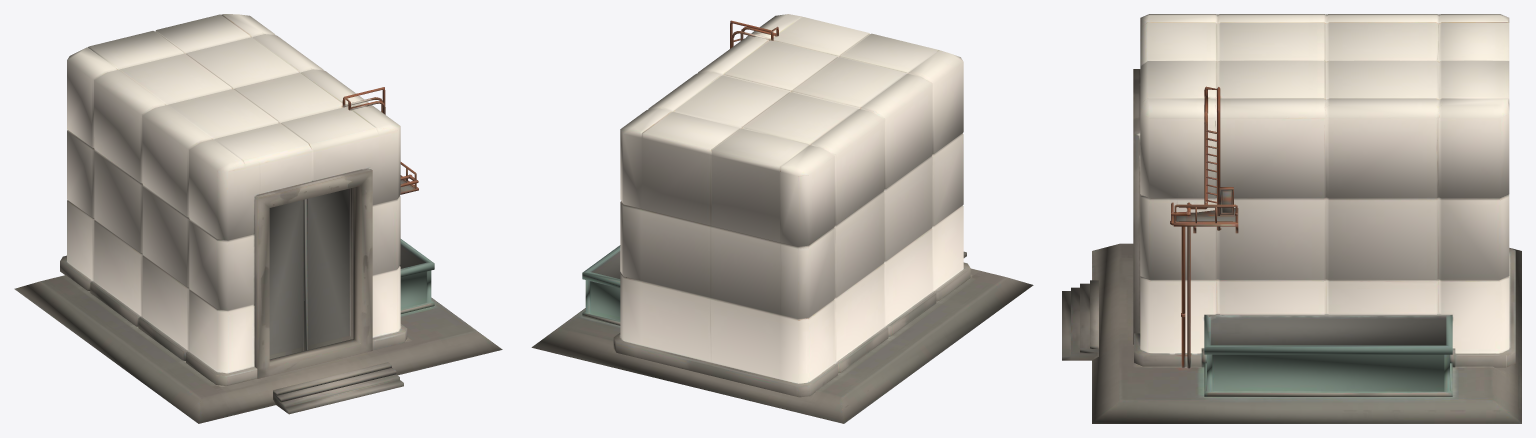
File: original_glb.glb
3 views of the same model, side by side, from view 1: azimuth 30°, elevation 25°; view 2: azimuth 150°, elevation 25°; view 3: azimuth 270°, elevation 25° (orthographic). The views are drawn at different scales.
Parts seen in each view (by area): view 1: Assembly Building; view 2: Assembly Building; view 3: Assembly Building.
Part boxes in pixels (x1=…): Assembly Building: x1=14, y1=14, x2=502, y2=423; Assembly Building: x1=531, y1=14, x2=1033, y2=423; Assembly Building: x1=1062, y1=14, x2=1521, y2=423.
Size of the model in its own units: 0.8887 by 0.666 by 0.998.
1 material, 1 textured.
